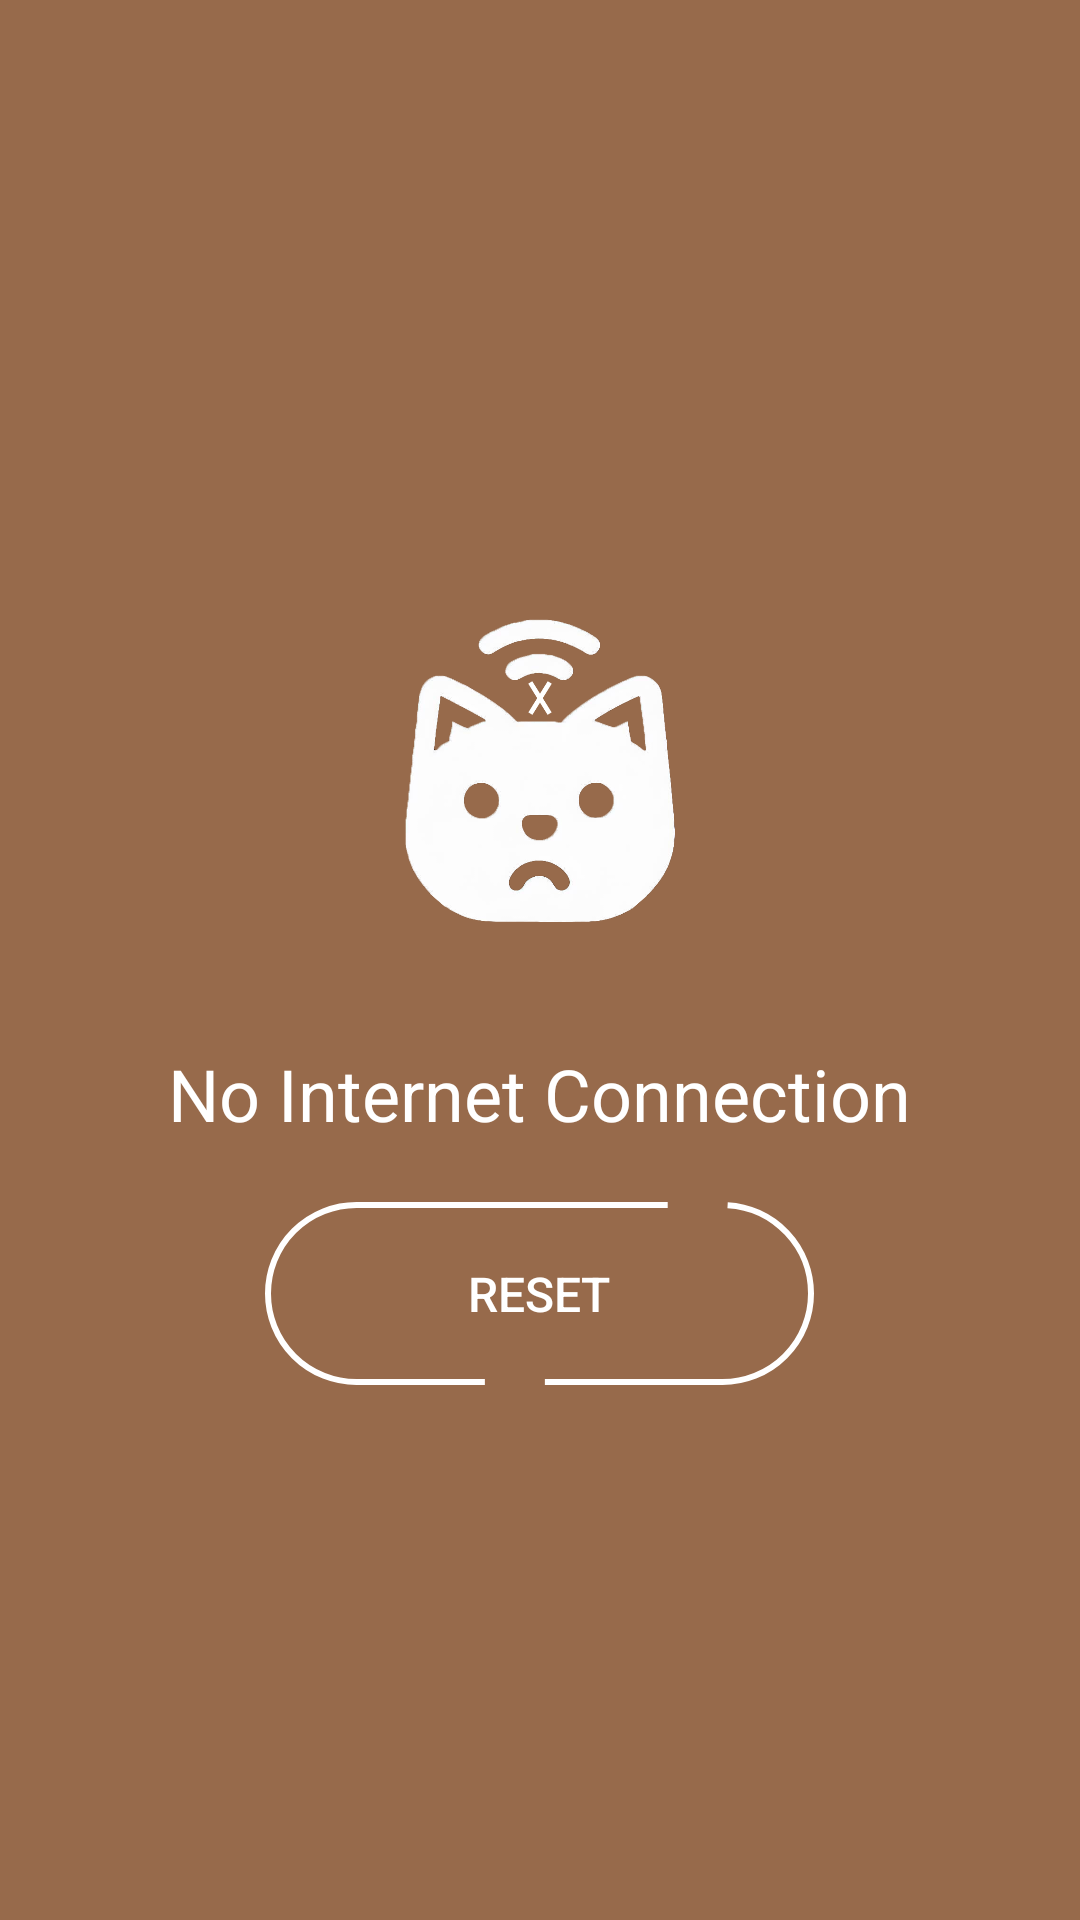

Where icons sit on this 1080px×1920px app screen, as (x1, y1, x2, y2):
Error Image: (405, 620, 675, 922)
